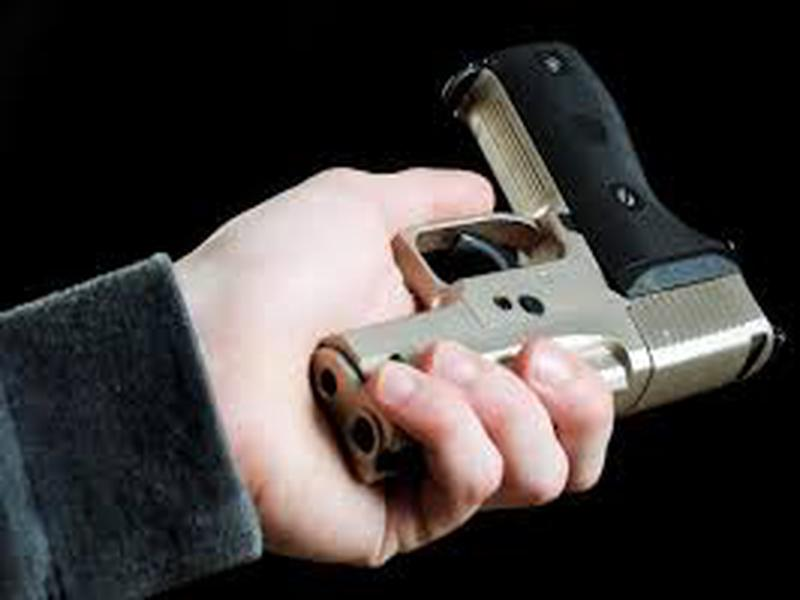gun: (71, 42, 785, 509)
